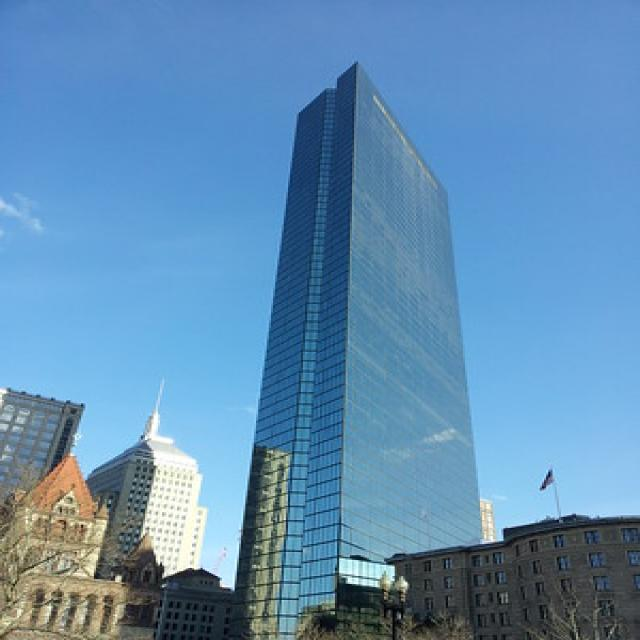Normal_building: (229, 54, 490, 640)
